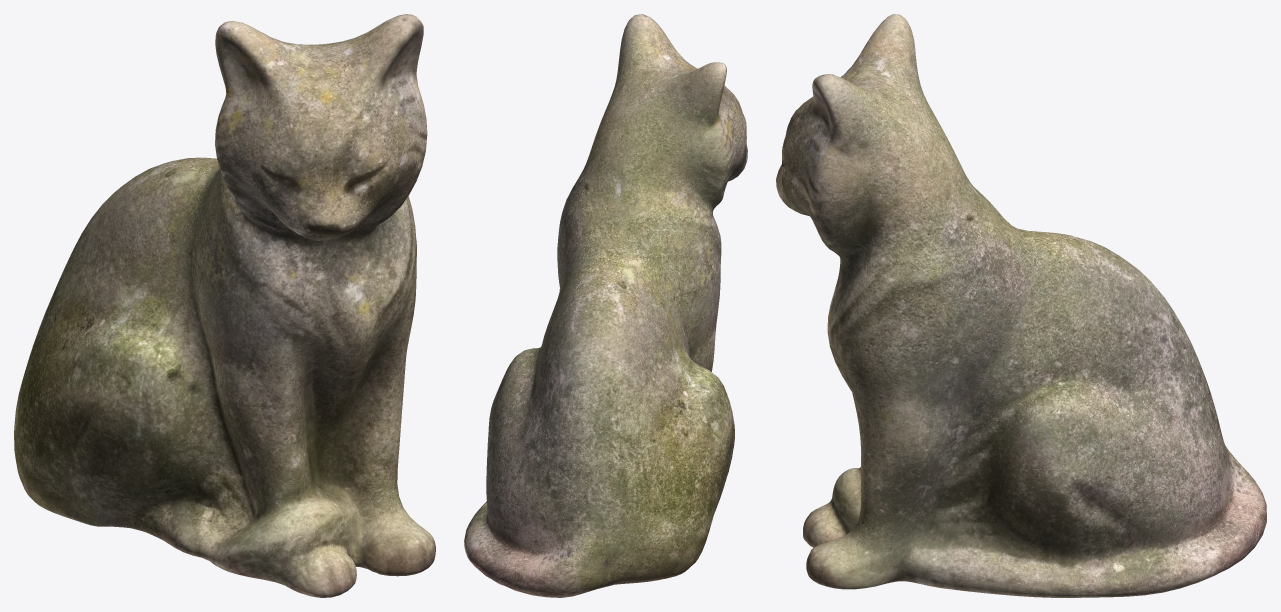
File: cat.glb
The picture shows the model from 3 angles, left to right: view 1: azimuth 30°, elevation 25°; view 2: azimuth 150°, elevation 25°; view 3: azimuth 270°, elevation 25°; orthographic projection. The views are drawn at different scales.
Parts seen in each view (by area): view 1: concrete_cat_statue; view 2: concrete_cat_statue; view 3: concrete_cat_statue.
Part boxes in pixels (left/top/right/bottom): concrete_cat_statue: left=14, top=14, right=435, bottom=597; concrete_cat_statue: left=464, top=14, right=747, bottom=597; concrete_cat_statue: left=776, top=14, right=1266, bottom=597.
Size of the model in its own units: 0.153 by 0.283 by 0.25.
Materials: 1 (1 with a texture image).
